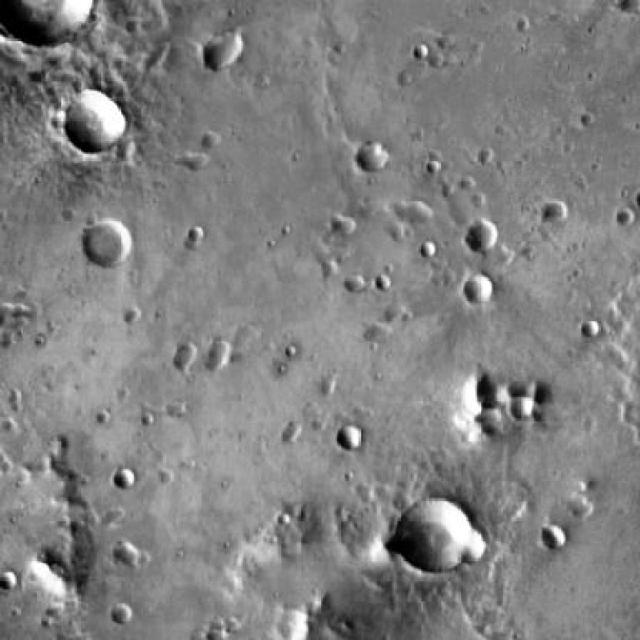crater: (396, 499, 476, 579), (62, 88, 126, 150), (78, 216, 130, 267), (207, 30, 247, 70), (471, 522, 506, 558), (462, 218, 495, 250), (358, 140, 389, 172), (466, 275, 494, 303), (544, 525, 568, 550), (339, 427, 364, 451), (178, 344, 202, 368), (330, 211, 352, 234), (356, 320, 378, 343), (202, 126, 224, 148), (423, 193, 445, 215), (182, 150, 203, 172), (545, 201, 566, 222), (113, 544, 133, 564), (112, 604, 132, 624), (0, 574, 20, 594), (347, 276, 367, 296), (384, 304, 404, 324), (117, 146, 137, 166), (125, 305, 144, 324), (224, 621, 243, 640), (587, 489, 605, 508), (576, 494, 595, 512), (285, 418, 304, 436), (114, 468, 132, 486), (579, 322, 596, 340), (210, 310, 227, 327), (216, 340, 233, 357), (432, 232, 450, 248), (406, 188, 422, 206), (378, 130, 394, 147), (375, 276, 391, 292), (188, 227, 203, 242), (491, 138, 506, 153)
